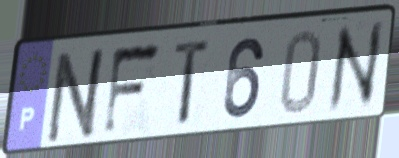0: (276, 27, 323, 119)
6: (221, 35, 266, 124)
F: (100, 39, 164, 141)
N: (43, 44, 112, 147), (325, 17, 385, 118)
T: (171, 36, 214, 132)
